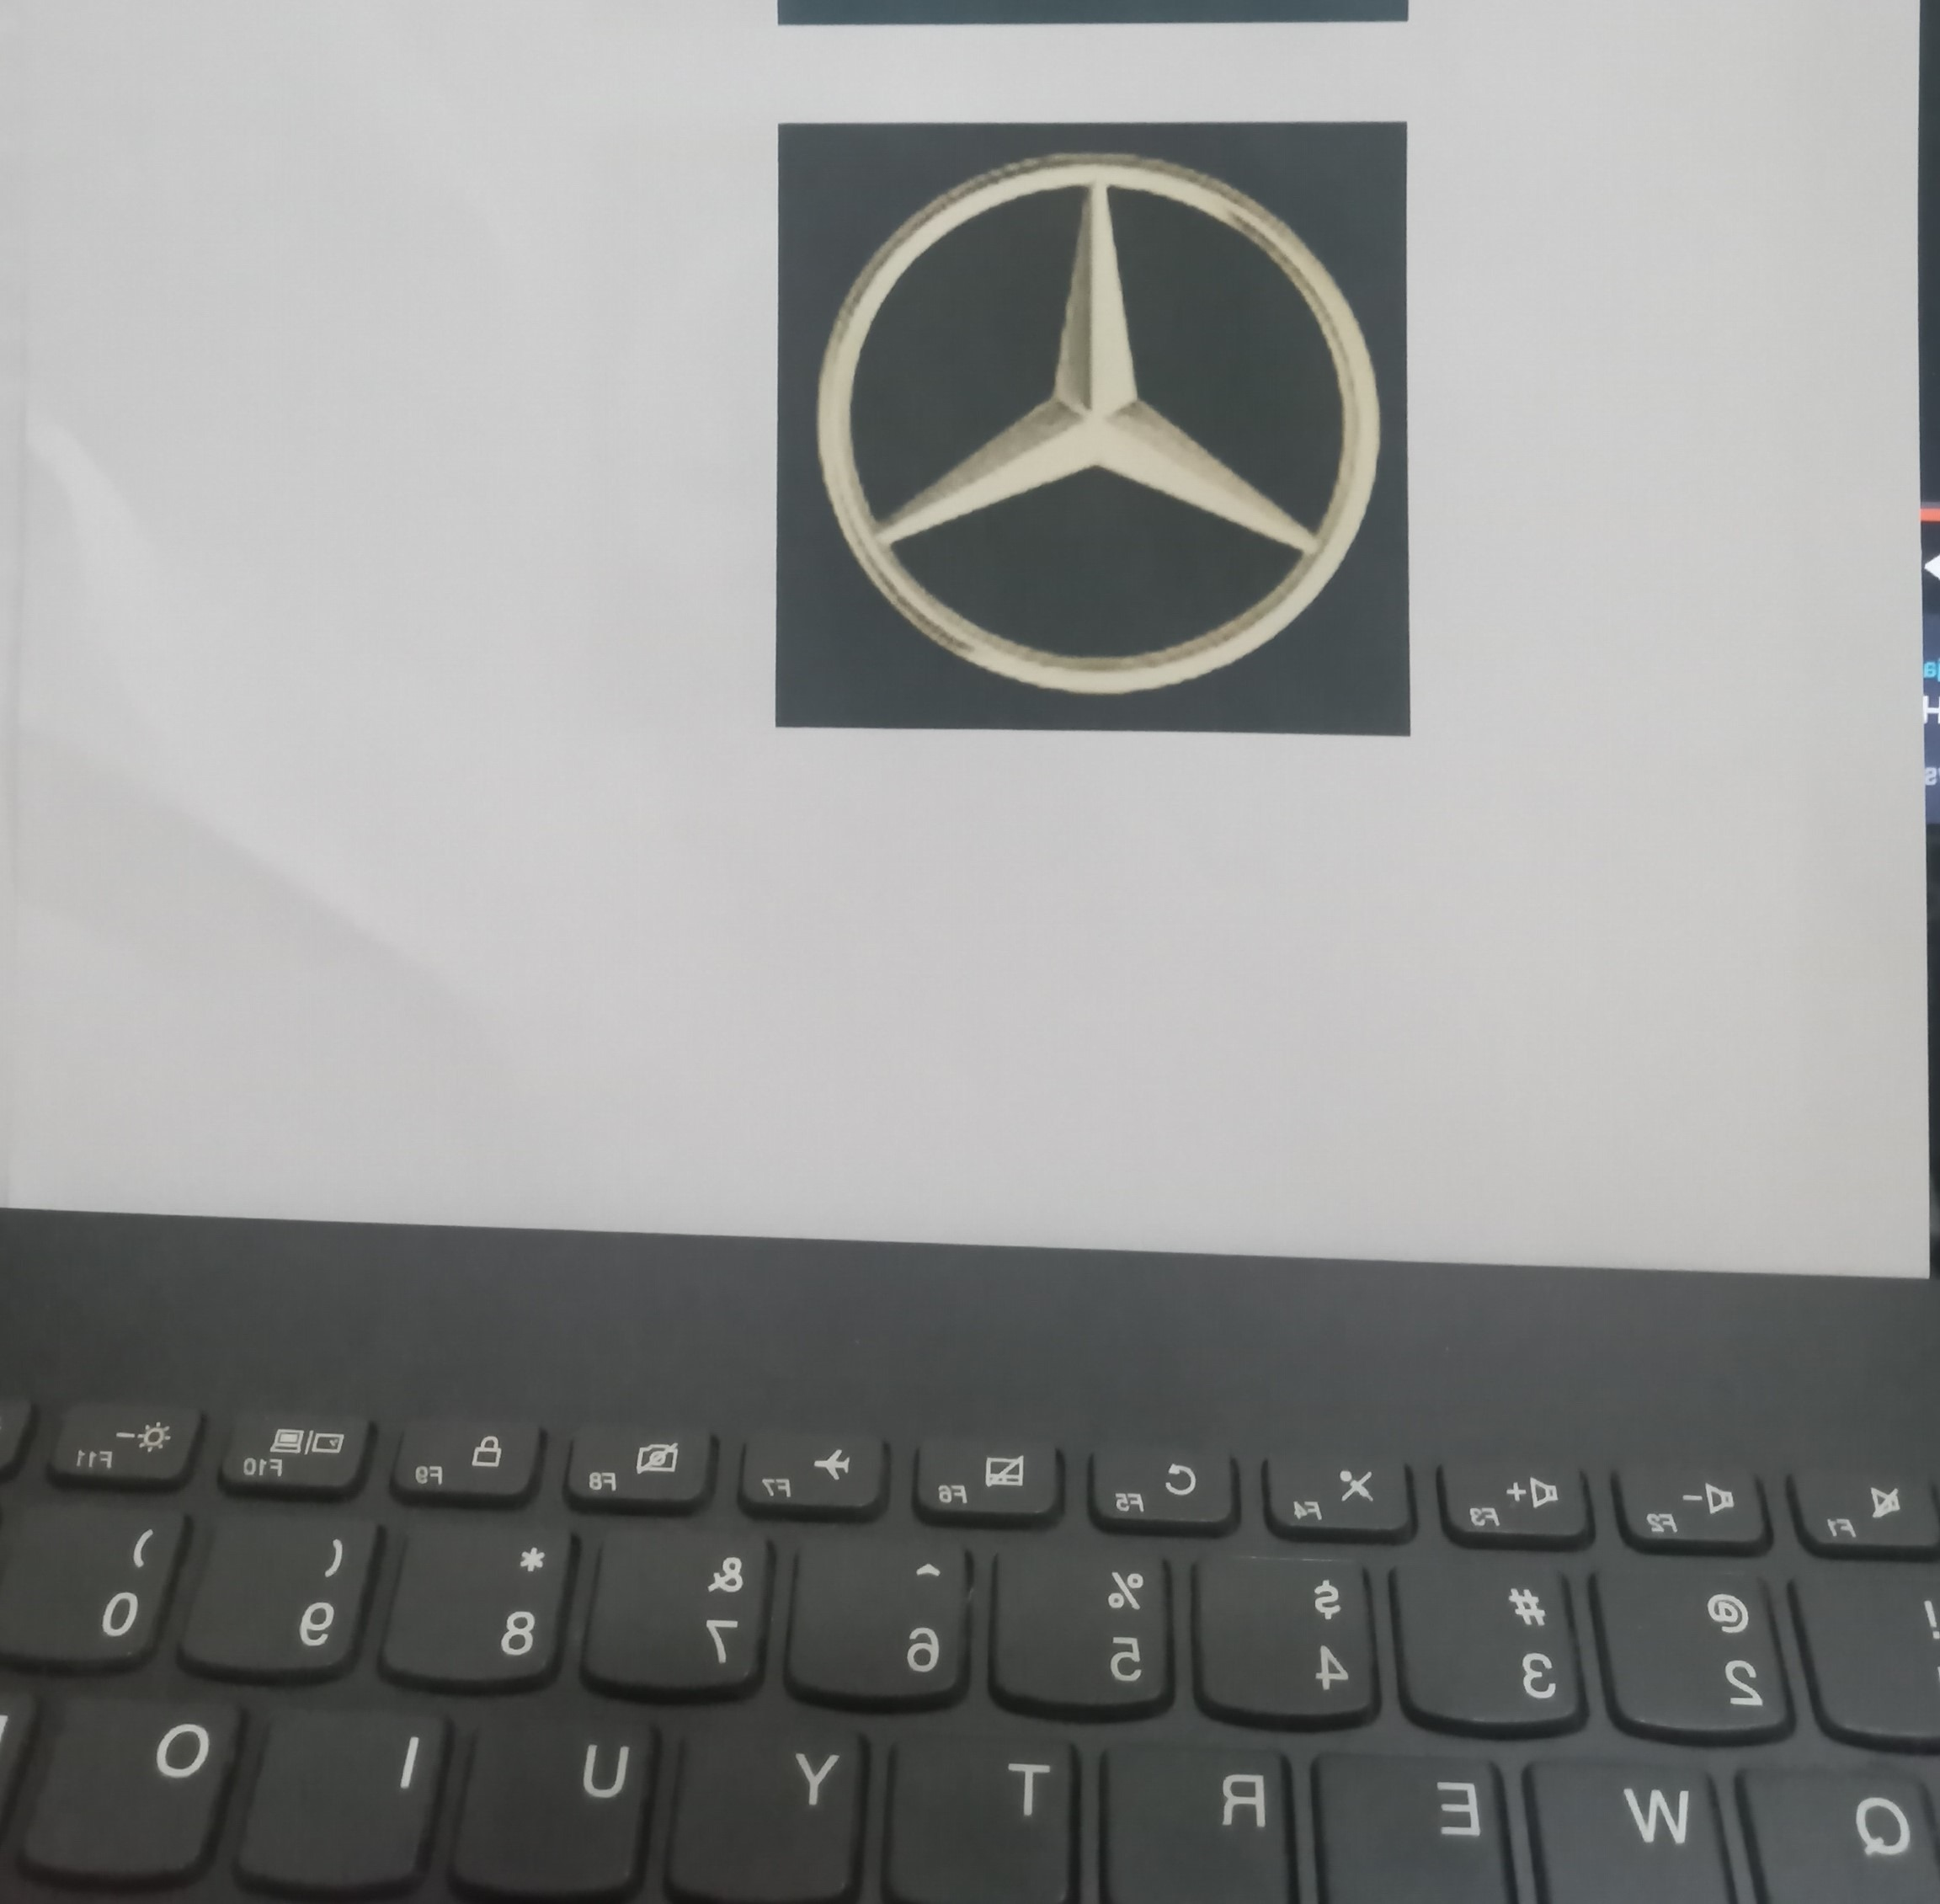Mercedes: (784, 134, 1396, 713)
